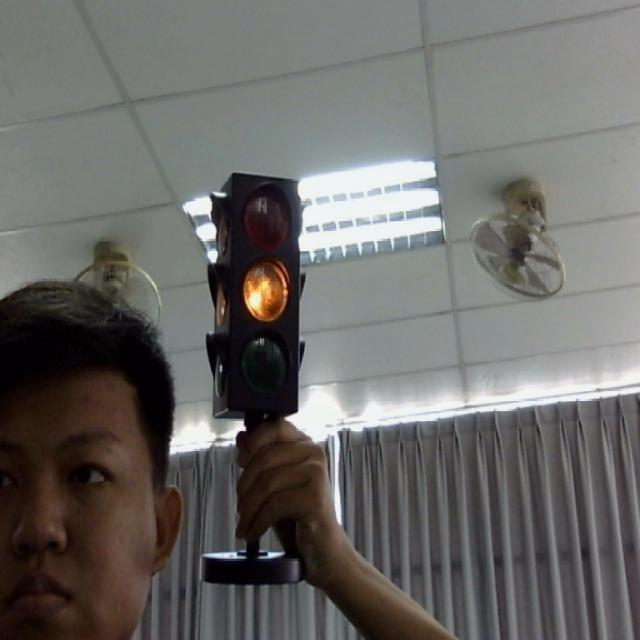Yellow: (205, 167, 312, 417)
